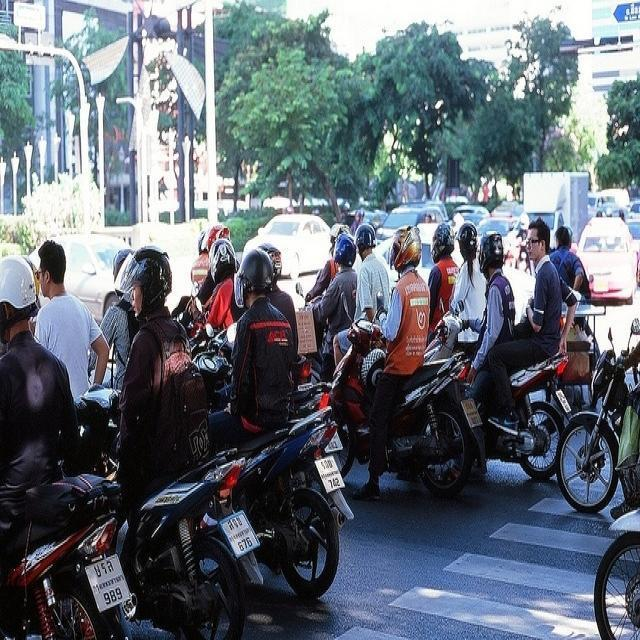car: (575, 209, 638, 306)
motorcycle: (134, 434, 274, 640), (337, 314, 487, 500), (0, 459, 131, 640), (275, 395, 367, 636), (559, 319, 640, 512), (500, 346, 568, 485)
plate: (78, 547, 138, 615), (218, 505, 265, 558), (308, 450, 351, 492)
